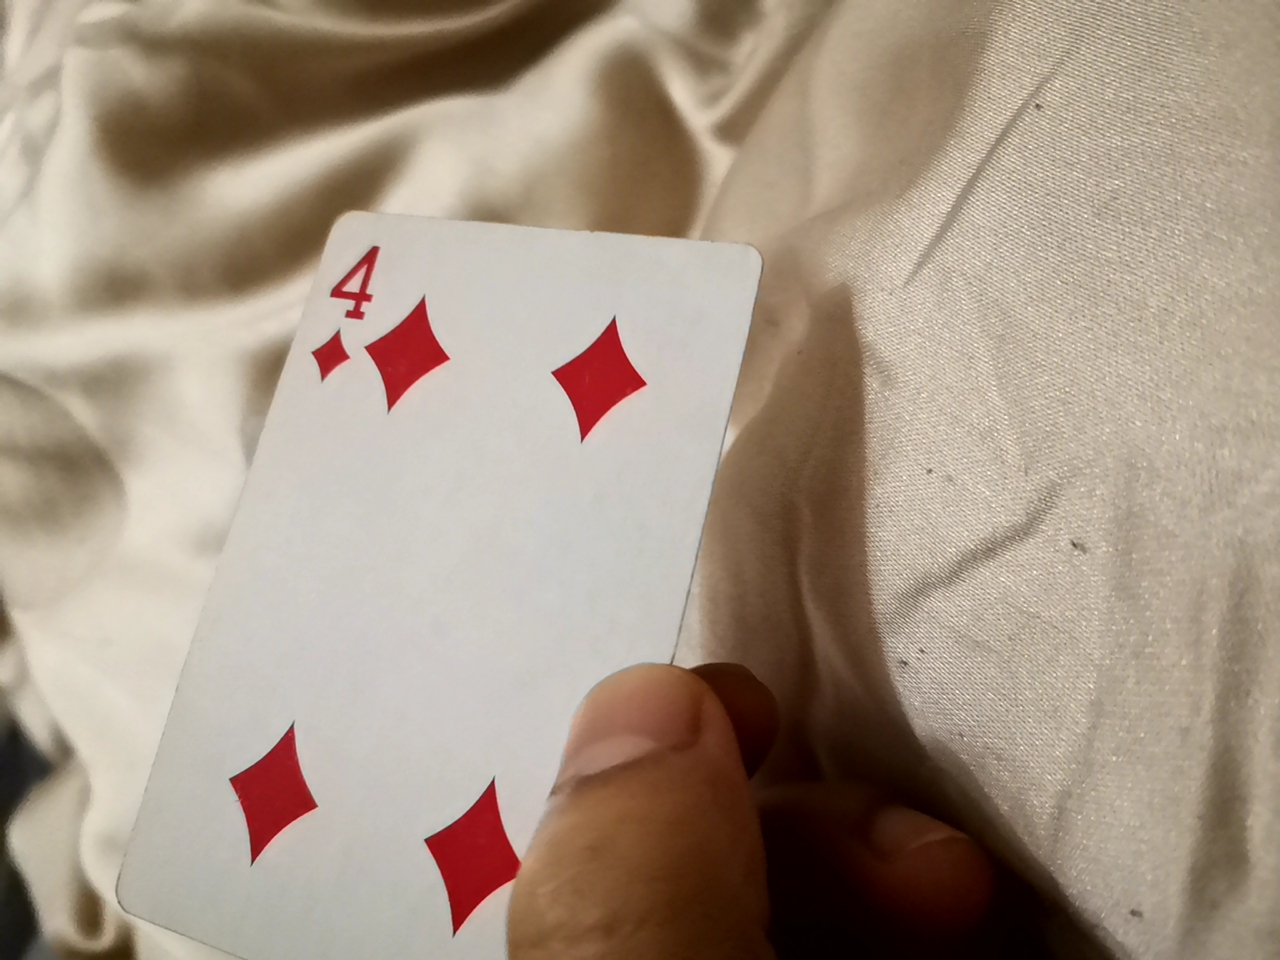fk 4: (128, 229, 745, 960)
